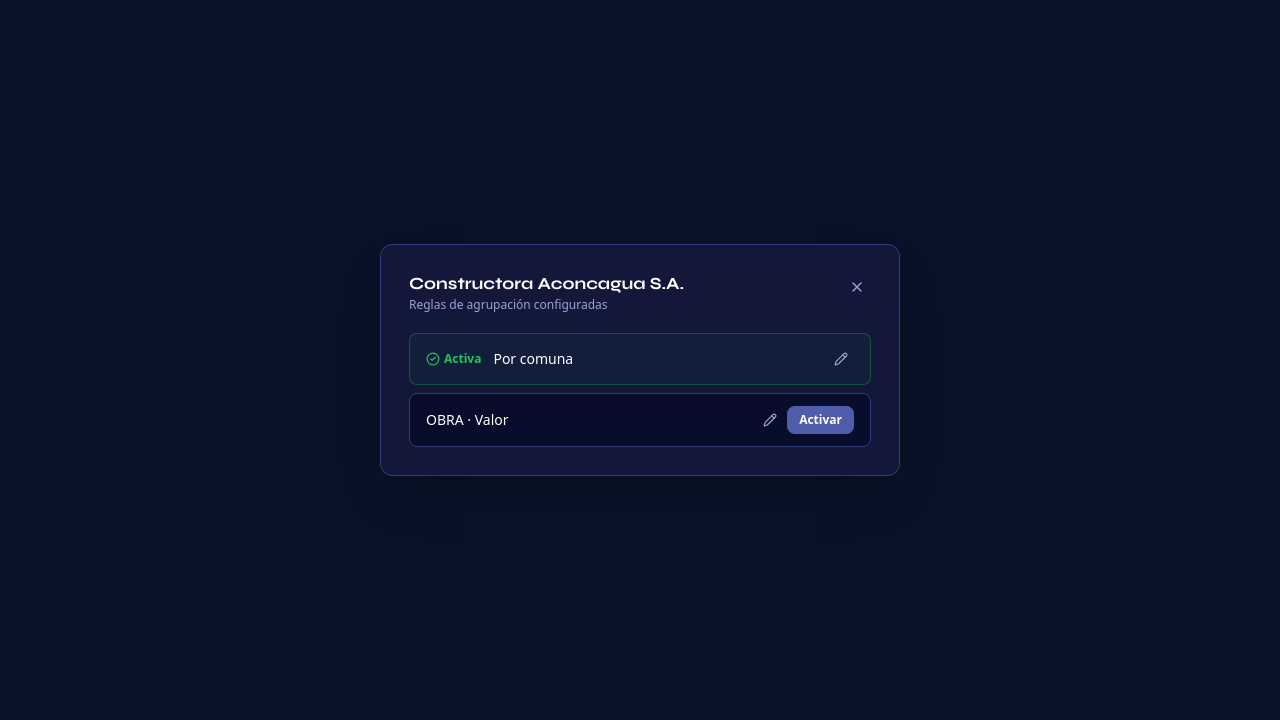
ReglasPorClienteModal › inline edit reglanombre › al cancelar oculta el input
Click the button with test id "btn-editar-977_campo_receptor_CmnaRecep" at (841, 359), box [828,346,854,372]
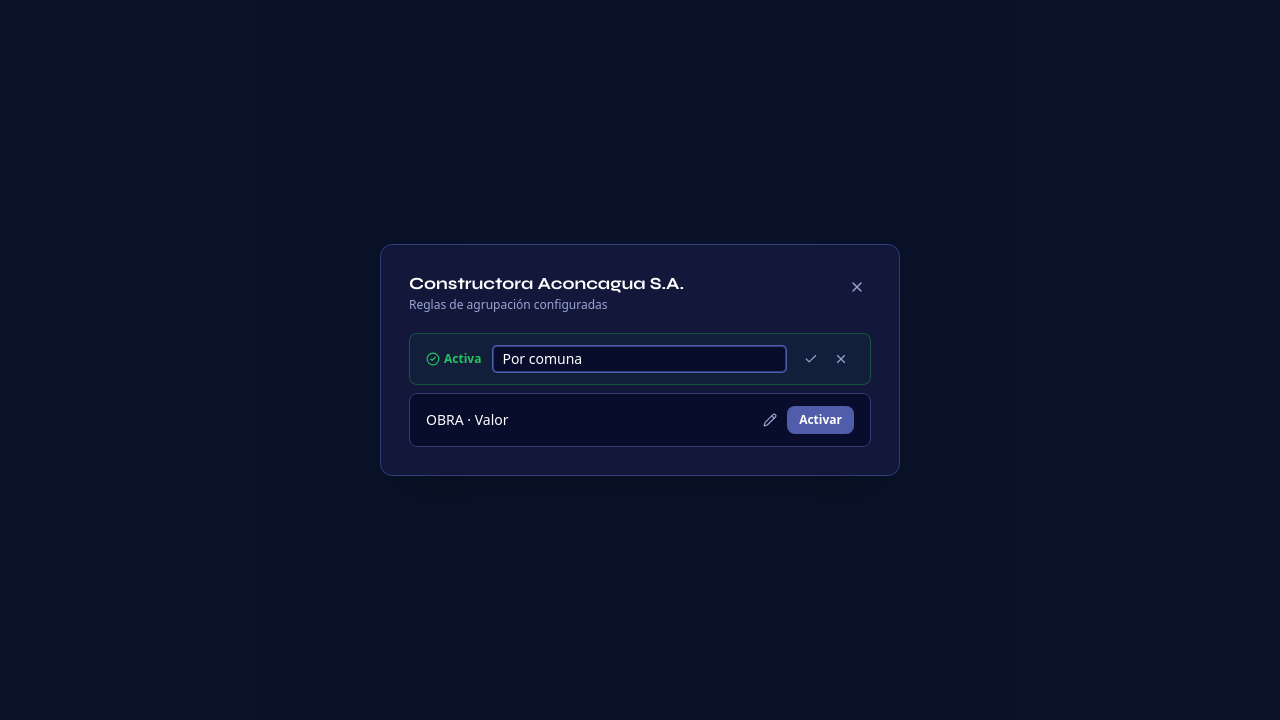
Check: the field with test id "input-nombre-977_campo_receptor_CmnaRecep" is shown, box [493,346,786,372]
Click the button with test id "btn-cancelar-editar-977_campo_receptor_CmnaRecep" at (841, 359), box [828,346,854,372]
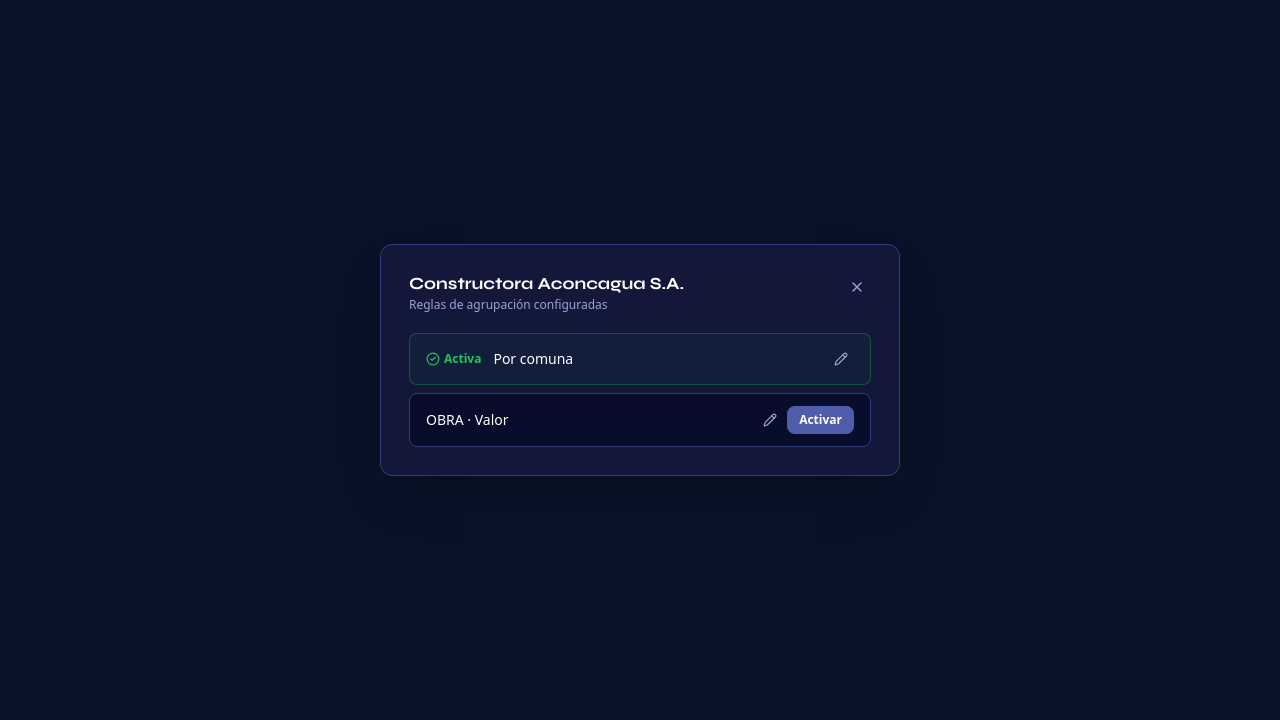
Check: the field with test id "input-nombre-977_campo_receptor_CmnaRecep" is gone
